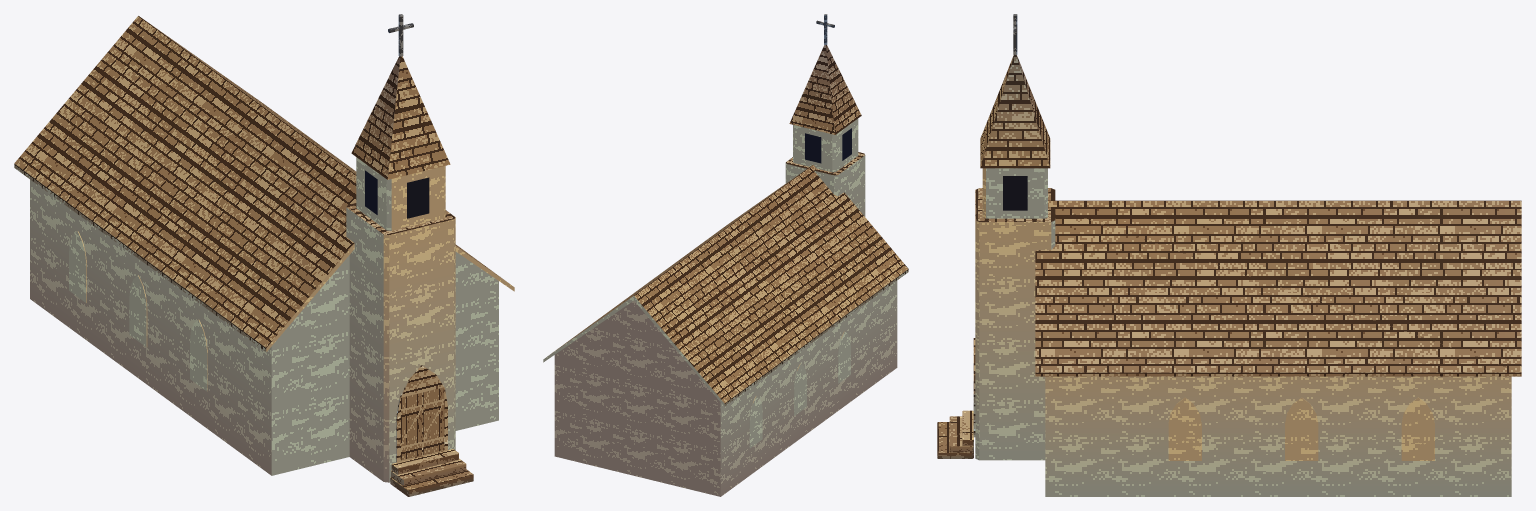
The model's file is wtown.church__wide.glb.
3 renders of one model, left to right at view 1: azimuth 30°, elevation 25°; view 2: azimuth 150°, elevation 25°; view 3: azimuth 270°, elevation 25°, orthographic. The views are drawn at different scales.
Visible parts, largest first — view 1: kit_roof, kit_body, kit_tower, kit_spire, kit_card_panes, kit_belfry, kit_windows, kit_steps, kit_trim; view 2: kit_body, kit_roof, kit_spire, kit_tower, kit_belfry, kit_windows, kit_card_panes; view 3: kit_roof, kit_body, kit_tower, kit_windows, kit_spire, kit_belfry, kit_steps, kit_card_panes.
Boxes of the visible parts, left/top/right/bottom form: kit_roof: left=14, top=16, right=514, bottom=352; kit_body: left=30, top=179, right=498, bottom=475; kit_tower: left=346, top=203, right=455, bottom=482; kit_spire: left=351, top=56, right=450, bottom=179; kit_card_panes: left=365, top=170, right=444, bottom=460; kit_belfry: left=356, top=157, right=445, bottom=230; kit_windows: left=69, top=231, right=207, bottom=391; kit_steps: left=390, top=449, right=473, bottom=496; kit_trim: left=396, top=365, right=447, bottom=462; kit_body: left=554, top=281, right=897, bottom=496; kit_roof: left=543, top=165, right=908, bottom=406; kit_spire: left=789, top=45, right=861, bottom=134; kit_tower: left=785, top=152, right=865, bottom=216; kit_belfry: left=793, top=118, right=858, bottom=172; kit_windows: left=749, top=331, right=850, bottom=448; kit_card_panes: left=805, top=128, right=851, bottom=163; kit_roof: left=1035, top=200, right=1521, bottom=376; kit_body: left=1045, top=376, right=1511, bottom=496; kit_tower: left=975, top=188, right=1055, bottom=460; kit_windows: left=1168, top=397, right=1434, bottom=460; kit_spire: left=980, top=55, right=1050, bottom=168; kit_belfry: left=982, top=168, right=1047, bottom=218; kit_steps: left=937, top=410, right=973, bottom=458; kit_card_panes: left=1003, top=176, right=1027, bottom=210.
Bounding box in the file's own units: 8.3 × 14.2 × 17.54.
Materials: 9 (9 with a texture image).
